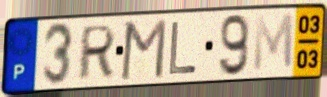3: (41, 19, 75, 90)
9: (218, 12, 251, 77)
L: (167, 20, 199, 77)
M: (118, 17, 169, 83), (252, 12, 295, 75)
R: (75, 22, 119, 83)
